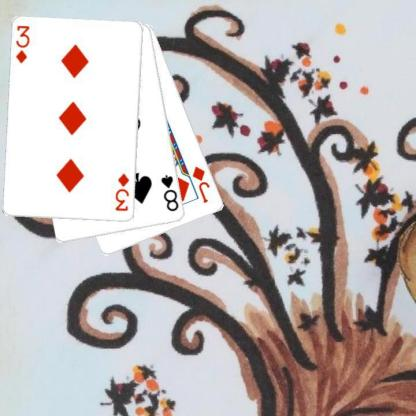3D: (13, 23, 31, 65), (113, 171, 130, 213)
8S: (159, 172, 180, 213)
JD: (190, 164, 212, 204)
